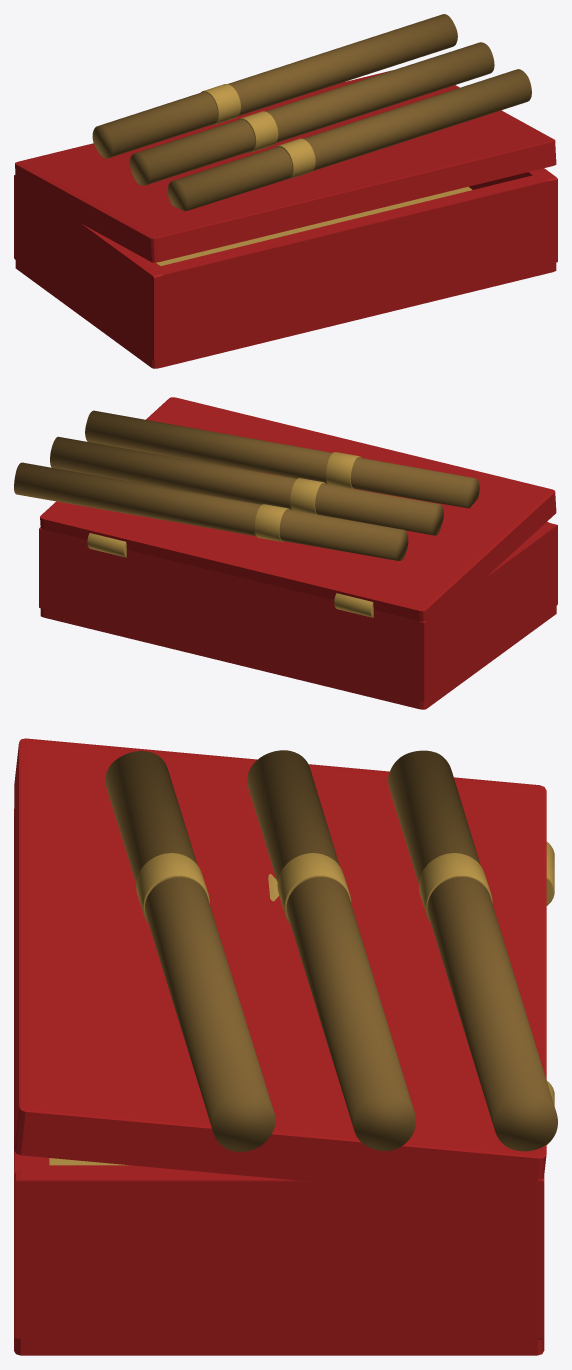
The picture shows the model from 3 angles, top to bottom: view 1: azimuth 30°, elevation 25°; view 2: azimuth 150°, elevation 25°; view 3: azimuth 270°, elevation 25°; orthographic projection. The views are drawn at different scales.
Parts seen in each view (by area): view 1: TI055 / separate lid panel, TI055 / case end, TI055 / case side, TI055 / case bottom, TI055 / individual cigar.002, TI055 / individual cigar, TI055 / individual cigar.001, TI055 / case side.001, TI055 / case liner, TI055 / gold cigar band.001, TI055 / gold cigar band.002, TI055 / gold cigar band; view 2: TI055 / separate lid panel, TI055 / case end.001, TI055 / case bottom, TI055 / individual cigar.002, TI055 / individual cigar.001, TI055 / individual cigar, TI055 / case side, TI055 / case side.001, TI055 / gold cigar band.002, TI055 / gold cigar band, TI055 / gold cigar band.001, TI055 / hinge barrel.001 (+1 smaller); view 3: TI055 / separate lid panel, TI055 / case side.001, TI055 / case bottom, TI055 / individual cigar.002, TI055 / individual cigar, TI055 / individual cigar.001, TI055 / gold cigar band.001, TI055 / gold cigar band, TI055 / gold cigar band.002, TI055 / case end.
Part boxes in pixels (x1,y1,x2,y2): TI055 / separate lid panel: [15, 70, 556, 262]; TI055 / case end: [158, 174, 548, 356]; TI055 / case side: [14, 174, 169, 360]; TI055 / case bottom: [15, 247, 556, 368]; TI055 / individual cigar.002: [92, 14, 457, 158]; TI055 / individual cigar: [167, 69, 531, 211]; TI055 / individual cigar.001: [129, 42, 494, 185]; TI055 / case side.001: [469, 168, 557, 262]; TI055 / case liner: [156, 186, 472, 265]; TI055 / gold cigar band.001: [238, 111, 278, 152]; TI055 / gold cigar band.002: [201, 84, 240, 125]; TI055 / gold cigar band: [275, 138, 315, 178]; TI055 / separate lid panel: [40, 397, 556, 621]; TI055 / case end.001: [48, 531, 414, 681]; TI055 / case bottom: [40, 589, 556, 709]; TI055 / individual cigar.002: [14, 462, 408, 560]; TI055 / individual cigar.001: [50, 436, 443, 535]; TI055 / individual cigar: [85, 410, 479, 508]; TI055 / case side: [409, 522, 557, 701]; TI055 / case side.001: [39, 527, 53, 611]; TI055 / gold cigar band.002: [254, 504, 289, 541]; TI055 / gold cigar band: [325, 452, 361, 488]; TI055 / gold cigar band.001: [290, 478, 325, 514]; TI055 / hinge barrel.001: [87, 533, 126, 557]; TI055 / separate lid panel: [14, 738, 546, 1196]; TI055 / case side.001: [14, 1165, 544, 1339]; TI055 / case bottom: [14, 1305, 544, 1355]; TI055 / individual cigar.002: [388, 750, 557, 1151]; TI055 / individual cigar: [105, 751, 275, 1151]; TI055 / individual cigar.001: [247, 750, 415, 1150]; TI055 / gold cigar band.001: [277, 853, 351, 923]; TI055 / gold cigar band: [136, 853, 209, 923]; TI055 / gold cigar band.002: [419, 853, 492, 922]; TI055 / case end: [14, 817, 49, 1173].
Size of the model in its own units: 2.66 by 0.896 by 1.54.
